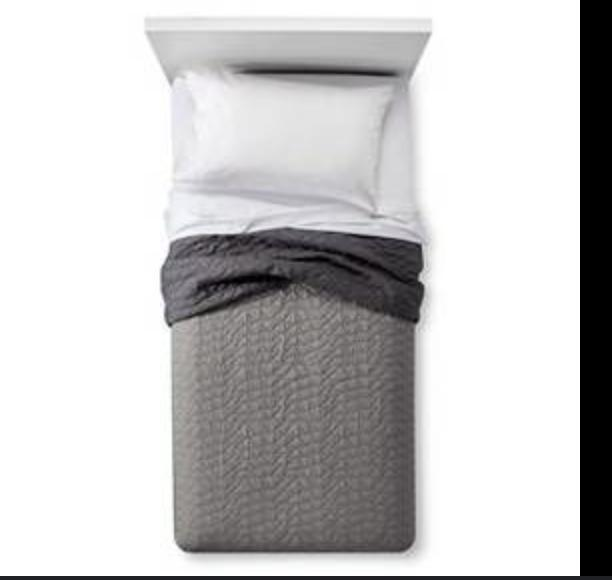Bed-Mattress: (137, 12, 445, 561)
